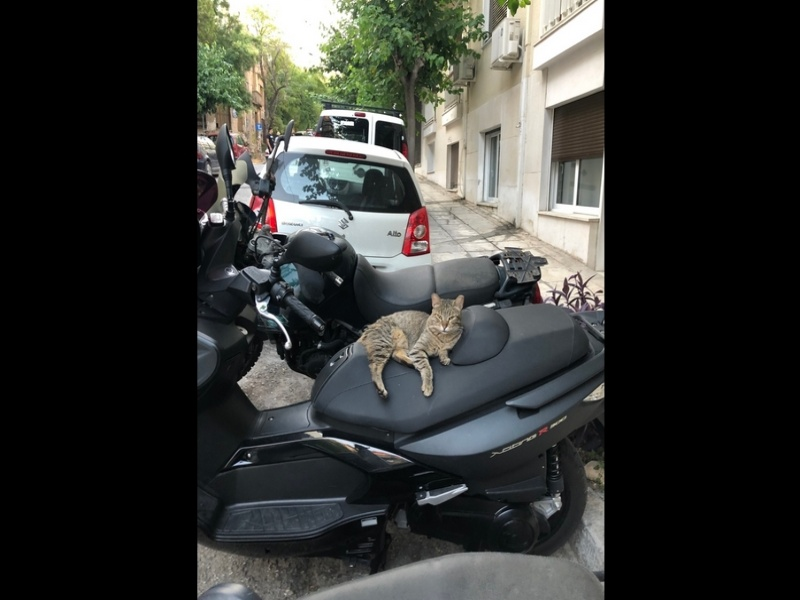cat: (359, 291, 464, 398)
